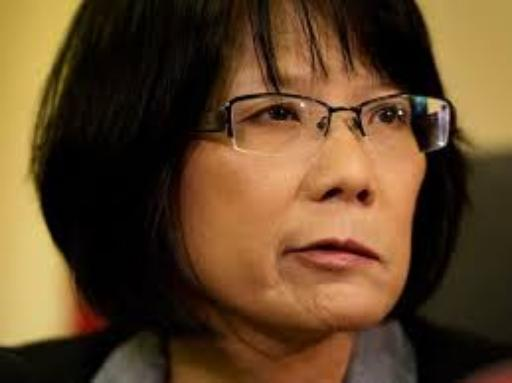left_eye: (369, 107, 410, 129)
left_lip_corner: (364, 249, 391, 270)
right_eye: (244, 105, 305, 128)
right_lip_corner: (276, 243, 306, 263)
